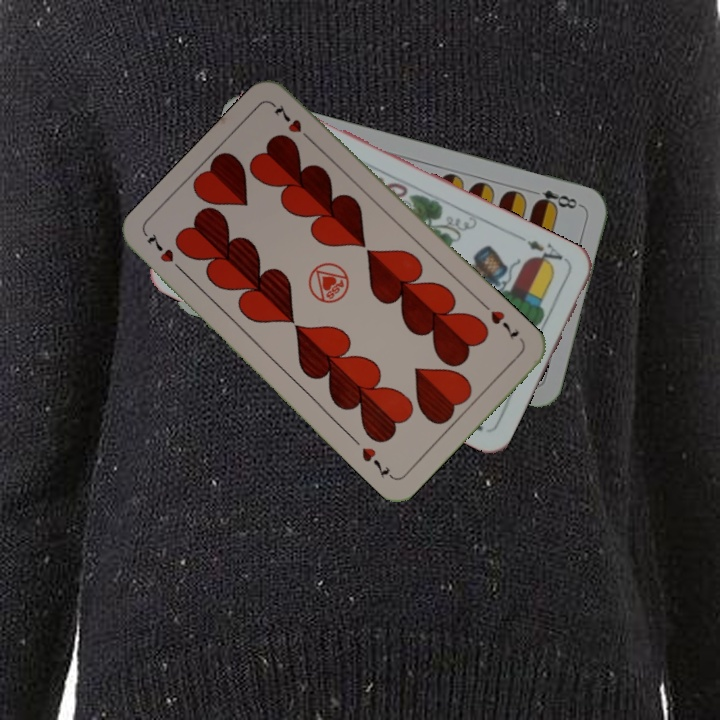E8: (527, 185, 584, 212)
EA: (523, 236, 571, 272)
H7: (143, 229, 188, 277), (486, 306, 522, 343)
